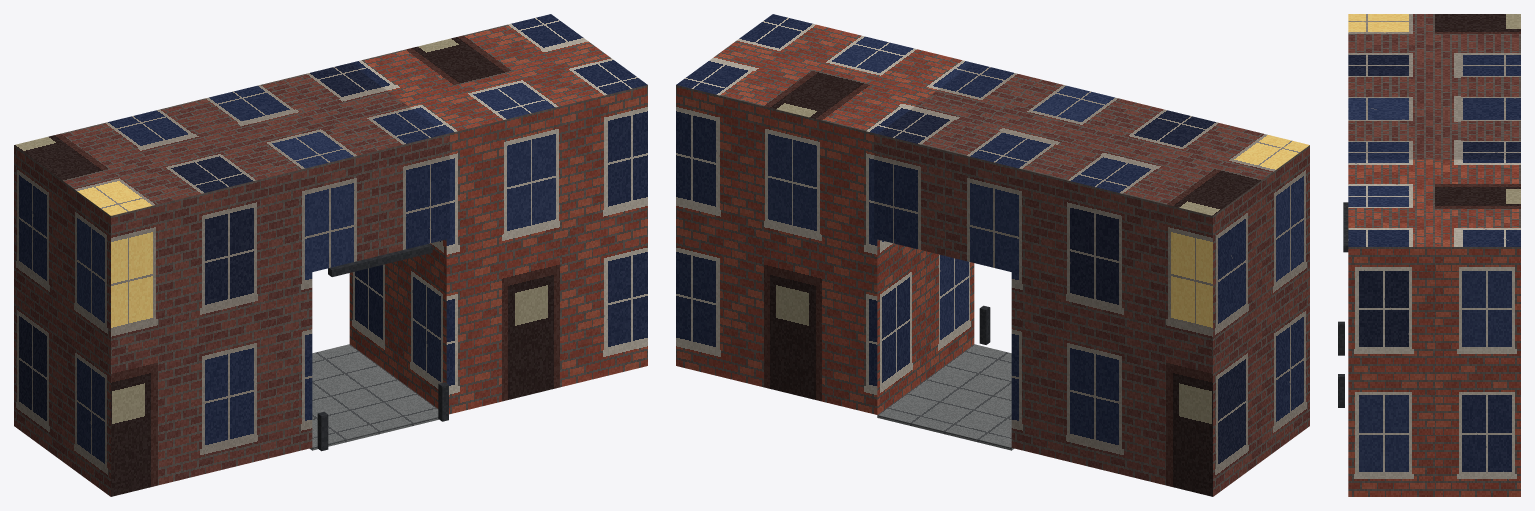
File: env_alley_mouth.glb
3 views of the same model, side by side, from view 1: azimuth 30°, elevation 25°; view 2: azimuth 150°, elevation 25°; view 3: azimuth 270°, elevation 25° (orthographic). The views are drawn at different scales.
Visible parts, largest first — view 1: env_alley_mouth; view 2: env_alley_mouth; view 3: env_alley_mouth.
Boxes of the visible parts, x1=… form: env_alley_mouth: x1=14, y1=14, x2=647, y2=496; env_alley_mouth: x1=676, y1=14, x2=1309, y2=496; env_alley_mouth: x1=1338, y1=14, x2=1520, y2=496.
Size of the model in its own units: 16 by 8.08 by 5.3.
4 materials, 4 textured.
